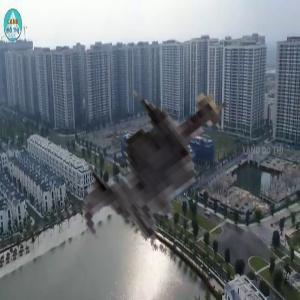drone: (44, 41, 264, 261)
